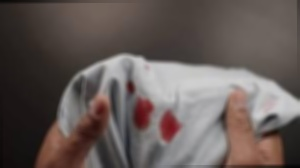blood: (157, 109, 183, 141), (131, 97, 155, 129)
